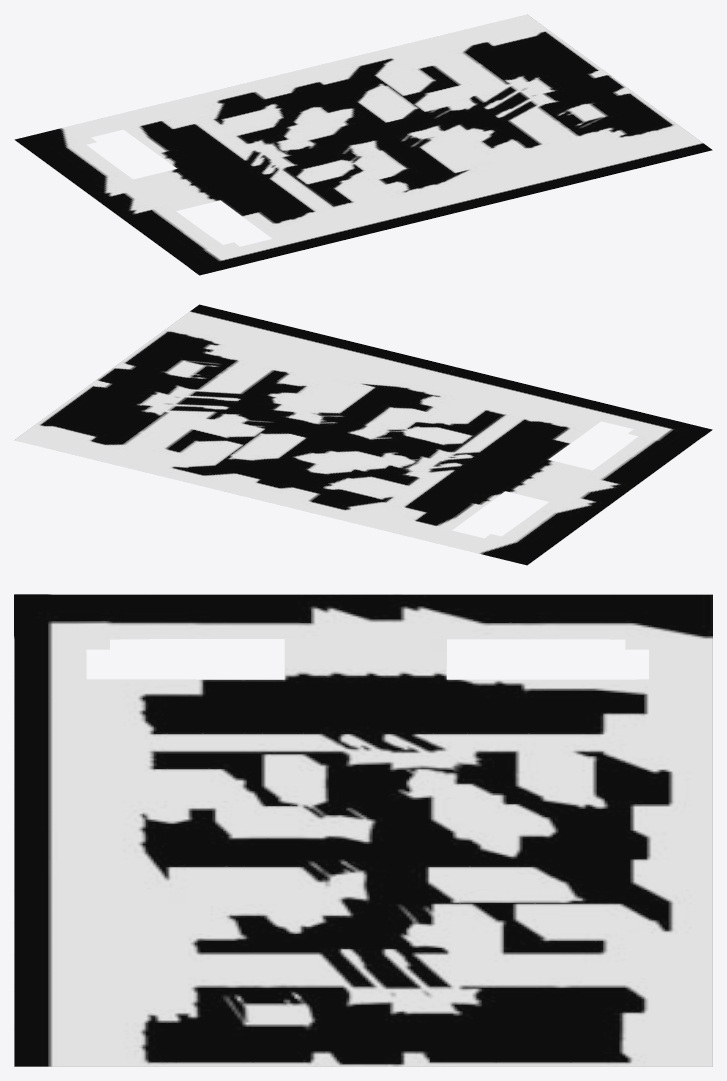
File: ying.obj
3 views of the same model, one above another, from view 1: azimuth 30°, elevation 25°; view 2: azimuth 150°, elevation 25°; view 3: azimuth 270°, elevation 25° (orthographic). The views are drawn at different scales.
Visible parts, largest first — view 1: ying; view 2: ying; view 3: ying.
Part boxes in pixels (box(x1,y1,x2,y2)): ying: box(14, 14, 712, 275); ying: box(14, 304, 712, 565); ying: box(14, 594, 712, 1066).
Size of the model in its own units: 2435 by 0.186 by 1524.
